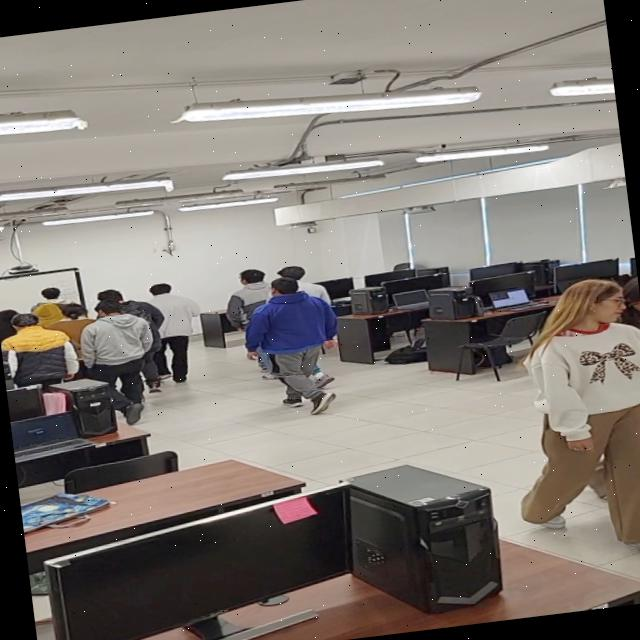Persona: (527, 275, 640, 503), (238, 272, 354, 419), (138, 278, 210, 372), (82, 300, 153, 390), (8, 310, 67, 412)
